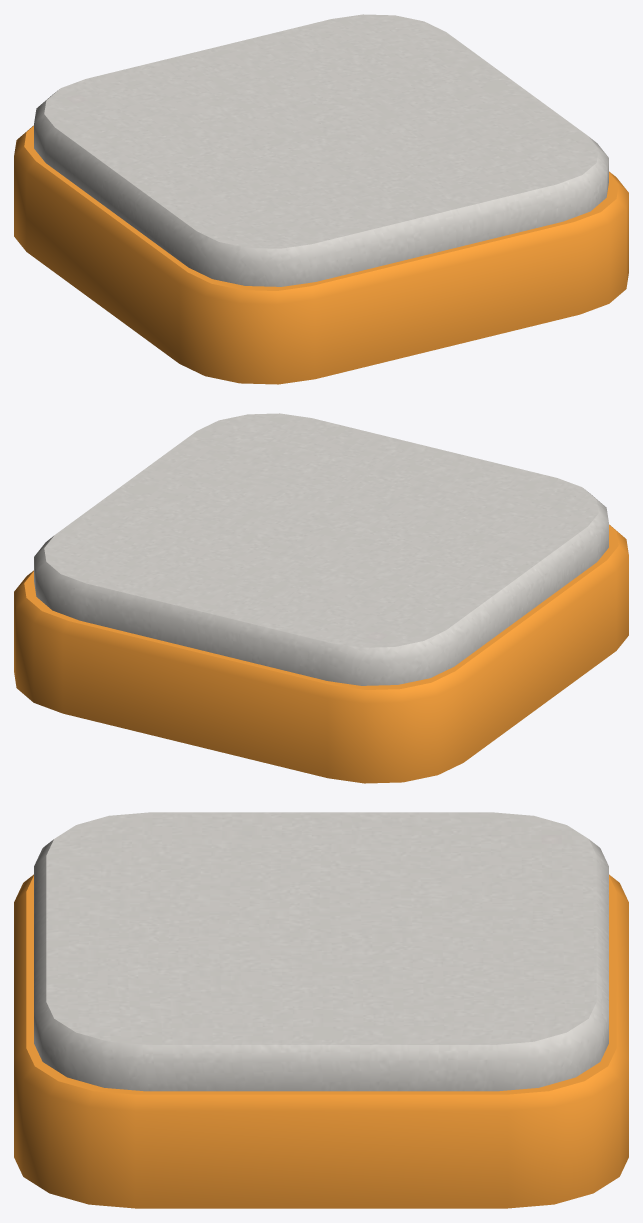
File: table_1_3.glb
3 renders of one model, top to bottom at view 1: azimuth 30°, elevation 25°; view 2: azimuth 150°, elevation 25°; view 3: azimuth 270°, elevation 25°, orthographic. The views are drawn at different scales.
Parts seen in each view (by area): view 1: table_1_3; view 2: table_1_3; view 3: table_1_3.
Boxes of the visible parts, x1,y1,x2,y2 form: table_1_3: (14, 14, 628, 384); table_1_3: (14, 413, 628, 783); table_1_3: (14, 812, 628, 1208).
Size of what is drawn, in the model's own units: 2 by 0.5374 by 2.
Materials: 2 (2 with a texture image).
